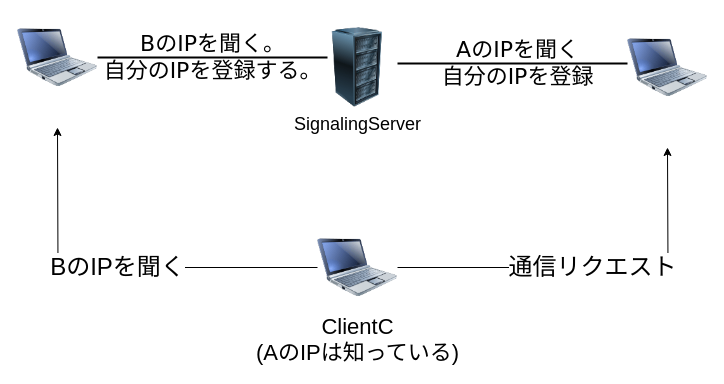
Image size: 724x384. Some labels were removed from this diagram. The box of each missing label's shape, as (x1, y1, x2, y2) in pixels:
ClientA: (17, 17, 97, 97)
ClientB: (627, 27, 707, 107)
